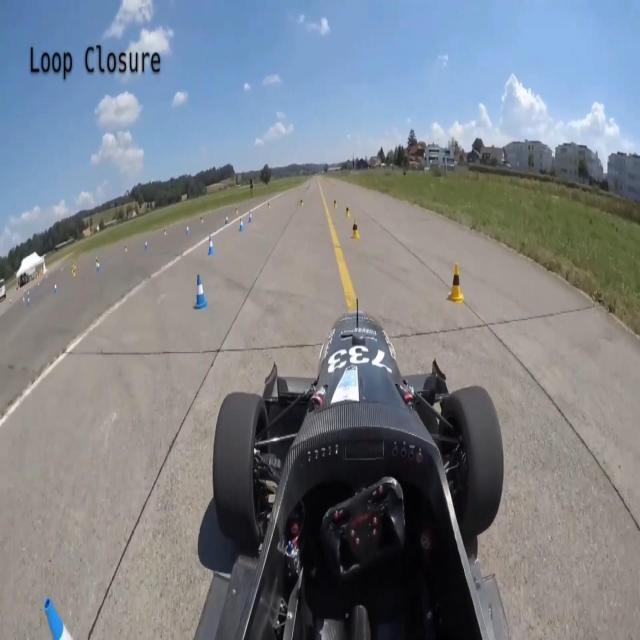blue_cone: (36, 580, 80, 640), (192, 273, 209, 313), (207, 234, 216, 256), (237, 218, 245, 232), (96, 261, 102, 277), (223, 213, 230, 226), (185, 225, 190, 240), (248, 212, 253, 226), (144, 239, 149, 251), (54, 282, 58, 296)
yellow_cone: (446, 260, 466, 304), (351, 218, 360, 242), (345, 202, 351, 218), (123, 240, 129, 253), (333, 197, 338, 210), (162, 226, 167, 238), (300, 197, 304, 209), (200, 213, 204, 225), (95, 255, 99, 267), (235, 205, 239, 216), (267, 201, 271, 211)
